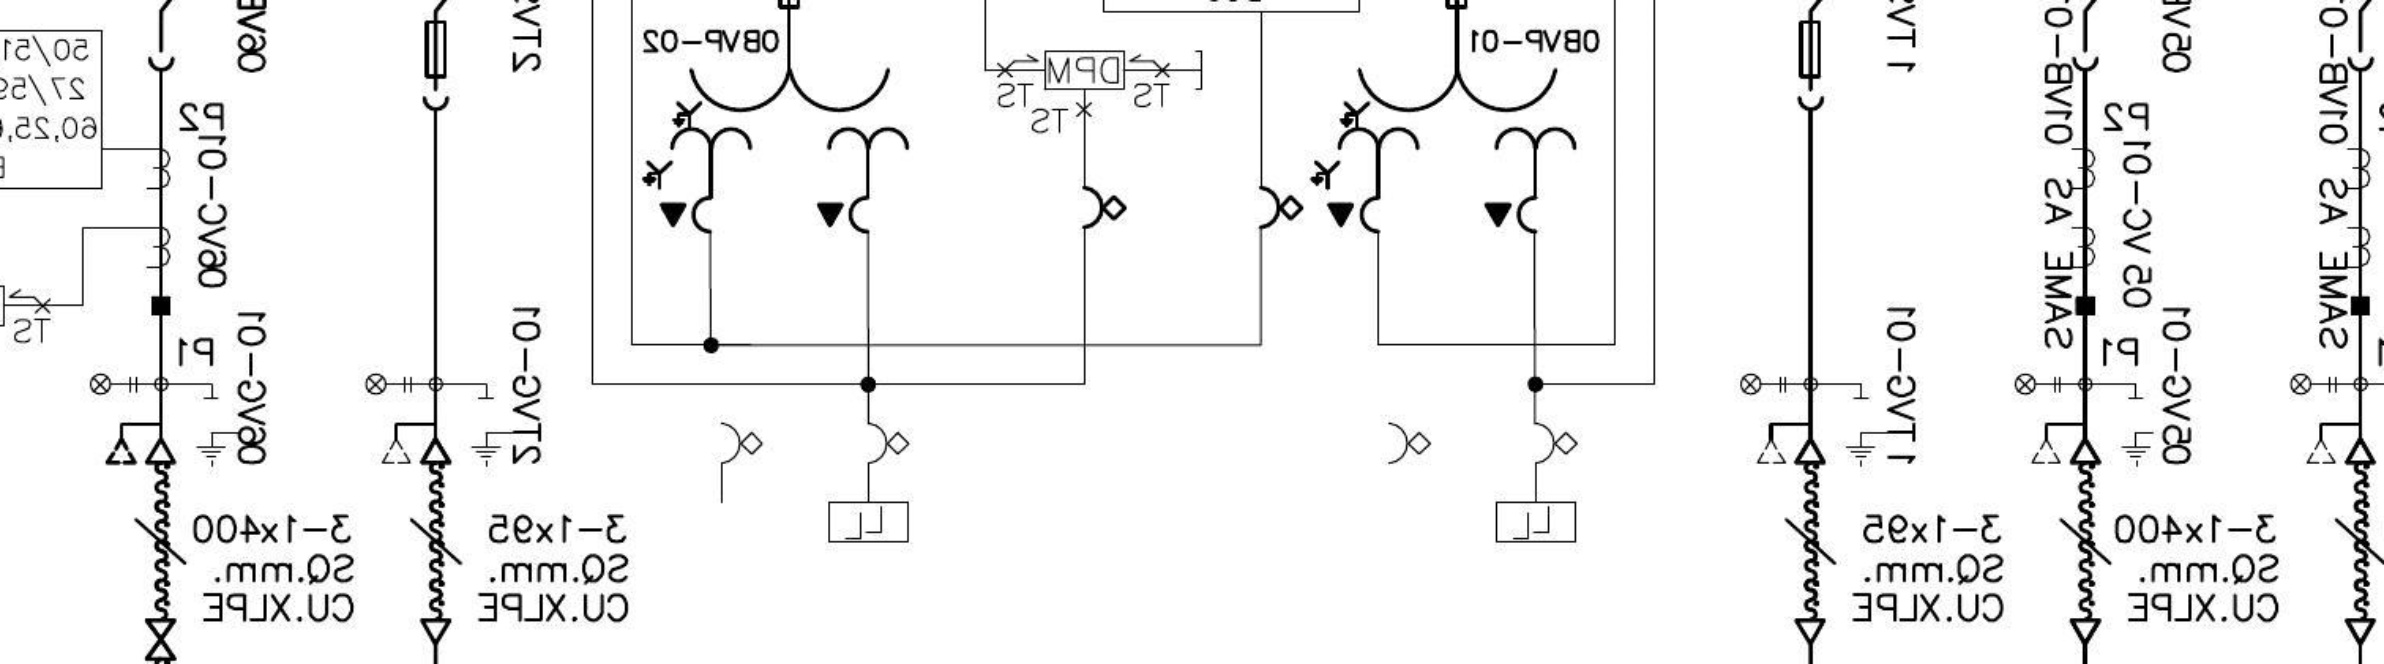22_gs: (1846, 395, 1890, 466), (471, 397, 515, 468), (195, 397, 239, 468), (2121, 395, 2156, 466)
22_ll: (2288, 371, 2338, 395), (2013, 372, 2063, 397), (1738, 372, 1788, 397), (365, 372, 414, 397), (90, 372, 138, 397)
DPM: (1043, 47, 1127, 93)
LL: (826, 498, 912, 545), (1492, 500, 1578, 545)
terminator_single: (417, 617, 453, 647), (1791, 617, 1828, 646), (2068, 617, 2103, 646), (2343, 617, 2378, 646)
terminator_splicing_kits: (144, 618, 178, 662)
terminator_w_future: (2030, 419, 2104, 466), (1755, 419, 1829, 466), (379, 419, 453, 465), (105, 421, 179, 466), (2303, 419, 2376, 465)
